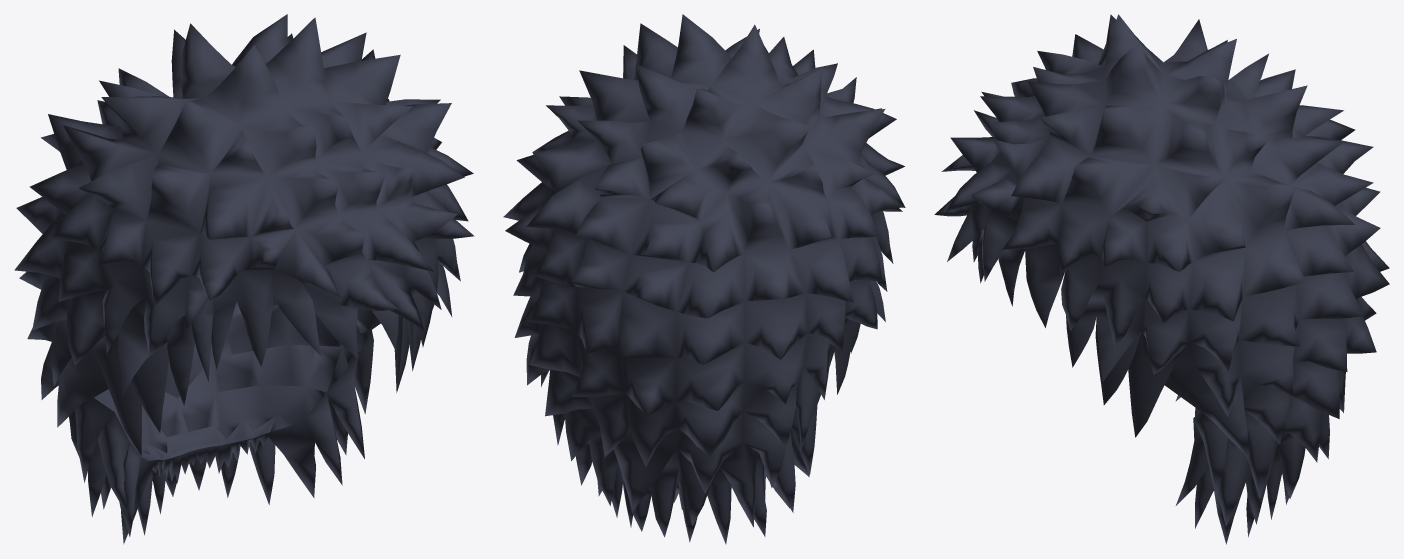
The model's file is hair3.glb.
3 renders of one model, left to right at view 1: azimuth 30°, elevation 25°; view 2: azimuth 150°, elevation 25°; view 3: azimuth 270°, elevation 25°, orthographic. The views are drawn at different scales.
Parts seen in each view (by area): view 1: Object_2; view 2: Object_2; view 3: Object_2.
Boxes of the visible parts, x1,y1,x2,y2 form: Object_2: (14, 14, 474, 544); Object_2: (503, 14, 905, 544); Object_2: (934, 14, 1389, 544).
Bounding box in the file's own units: 0.6076 × 0.7763 × 0.658.
Materials: 1 (1 with a texture image).
